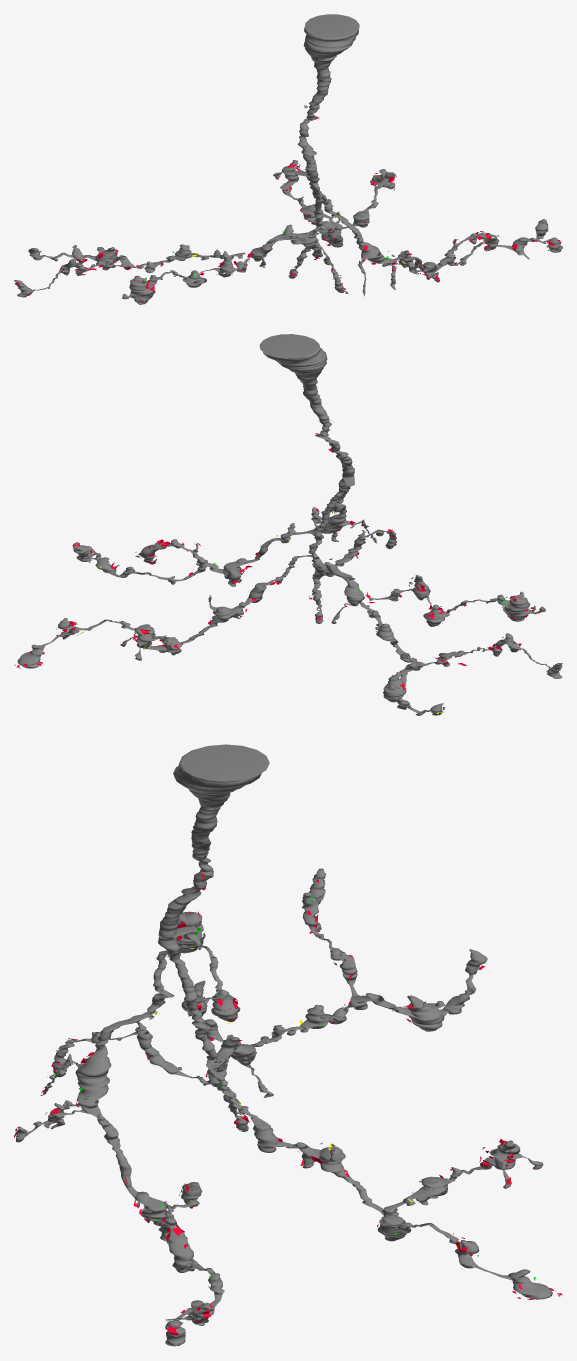
The model's file is morph-180.dae.
3 views of the same model, one above another, from view 1: azimuth 30°, elevation 25°; view 2: azimuth 150°, elevation 25°; view 3: azimuth 270°, elevation 25° (orthographic). The views are drawn at different scales.
Parts seen in each view (by area): view 1: NodeID-180; view 2: NodeID-180; view 3: NodeID-180.
Boxes of the visible parts, bbox=[...] form: NodeID-180: bbox=[14, 14, 562, 304]; NodeID-180: bbox=[17, 334, 562, 715]; NodeID-180: bbox=[16, 744, 552, 1346].
Size of the model in its own units: 54.67 by 32.53 by 27.36.
